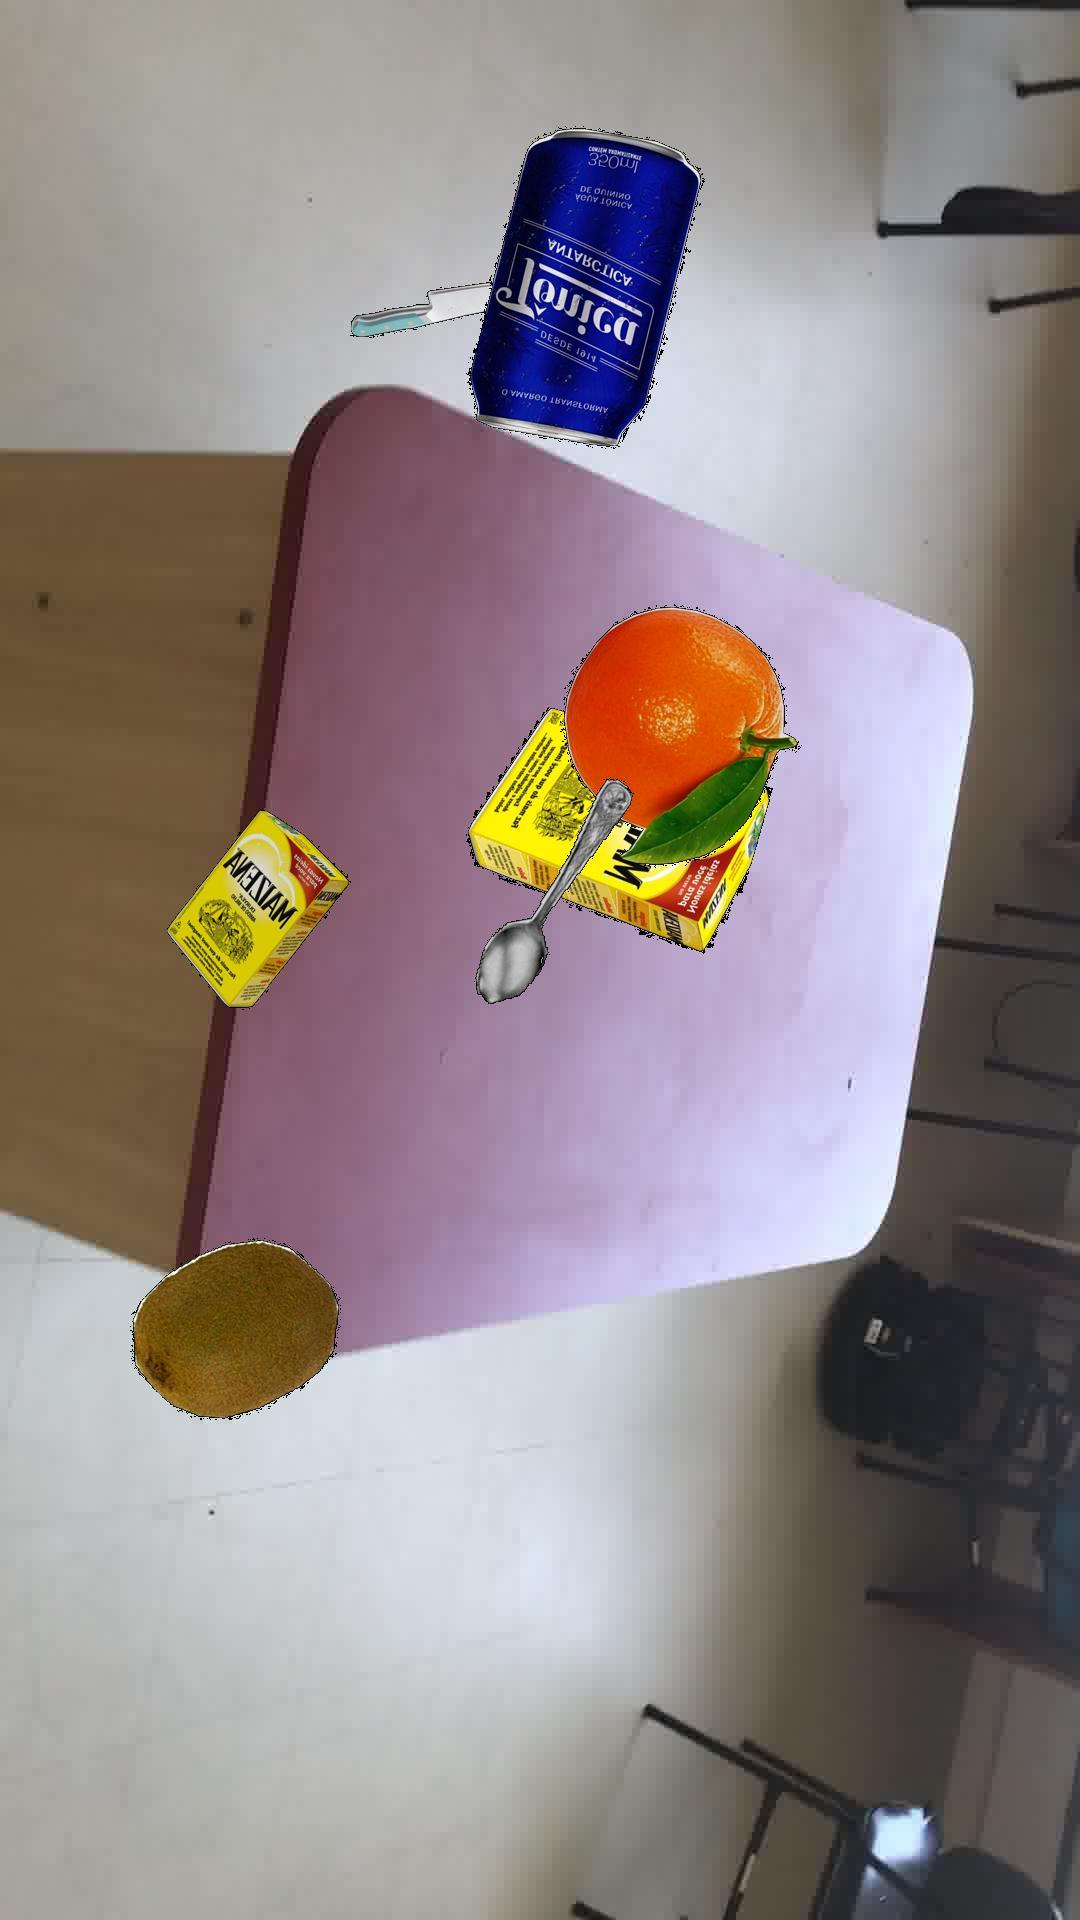kiwi: (131, 1237, 338, 1419)
knife: (348, 281, 491, 336)
orange: (559, 604, 798, 865)
spoon: (473, 778, 633, 1002)
tonic: (465, 127, 699, 446)
